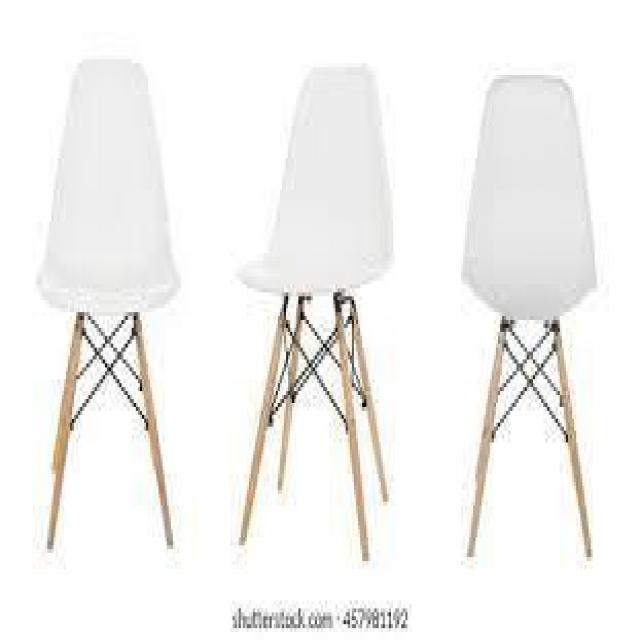chair: (30, 37, 604, 575)
